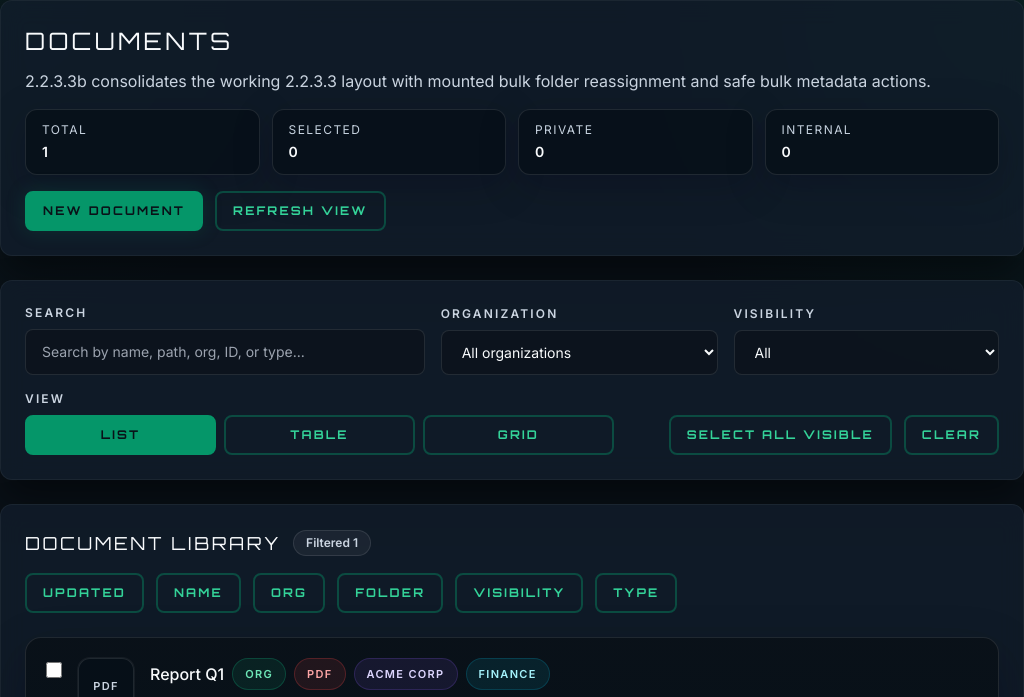
Scenario: AdminDocumentsCenterClient › create modal › closes create modal when Close clicked
What coordinates should you click on to do the following:
click the button "New Document"
I would click on:
 (114, 211)
Its box is x1=25 y1=191 x2=203 y2=231.
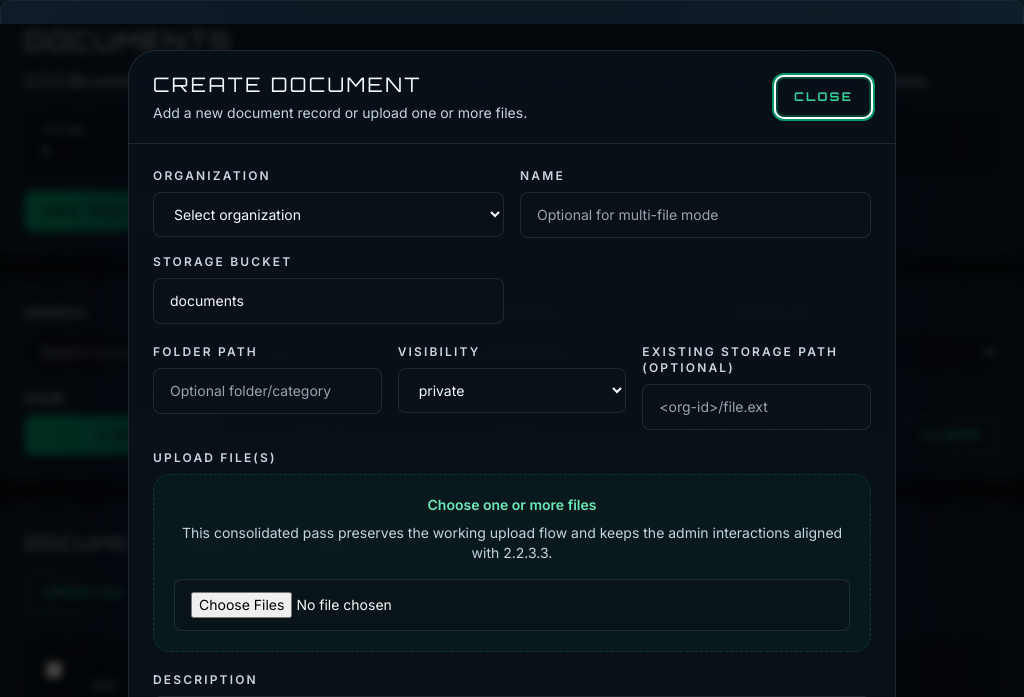
What coordinates should you click on to do the following:
click the button "Close"
I would click on:
 (823, 97)
Its box is x1=776 y1=77 x2=871 y2=117.
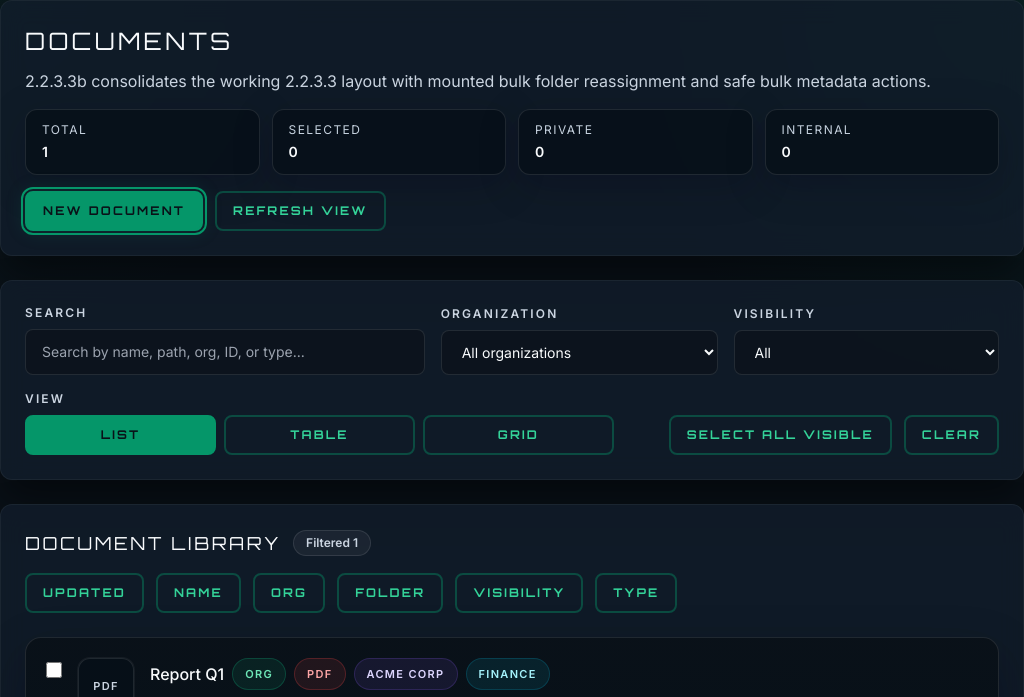
Now the heading "Create Document" is gone
